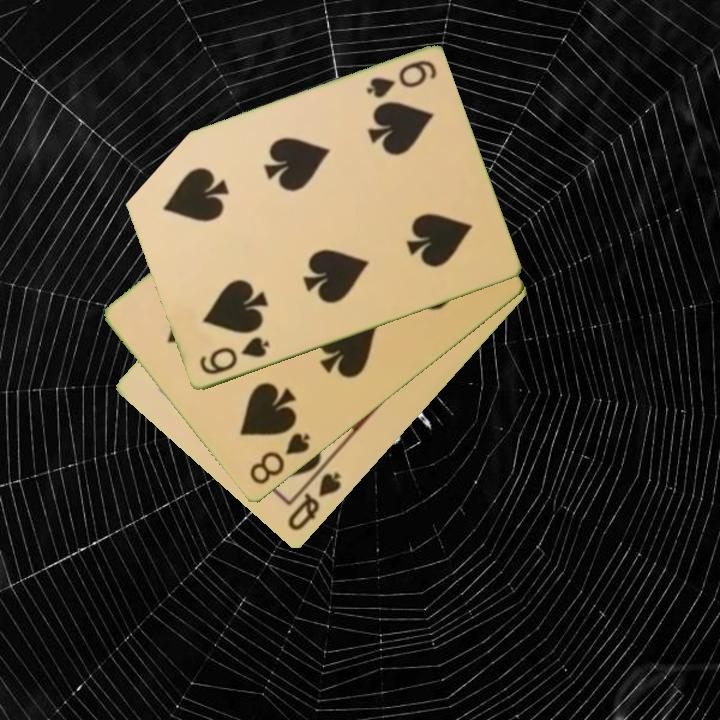6s: (195, 333, 273, 378), (362, 57, 440, 102)
8s: (245, 429, 314, 489)
Qs: (284, 468, 344, 535)
